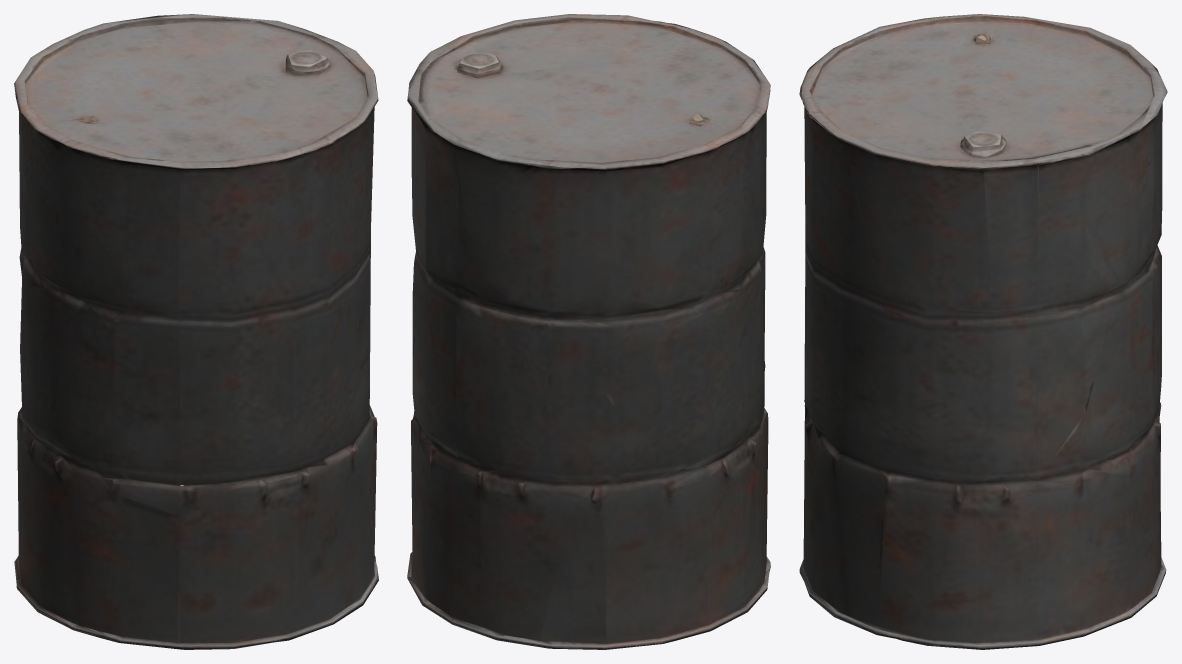
The model's file is barrel.glb.
3 renders of one model, left to right at view 1: azimuth 30°, elevation 25°; view 2: azimuth 150°, elevation 25°; view 3: azimuth 270°, elevation 25°, orthographic.
Visible parts, largest first — view 1: barrel; view 2: barrel; view 3: barrel.
Part boxes in pixels (x1=…): barrel: x1=14, y1=14, x2=378, y2=649; barrel: x1=407, y1=14, x2=770, y2=649; barrel: x1=799, y1=14, x2=1167, y2=649.
Bounding box in the file's own units: 0.68 × 0.9948 × 0.6805.
1 material, 1 textured.
